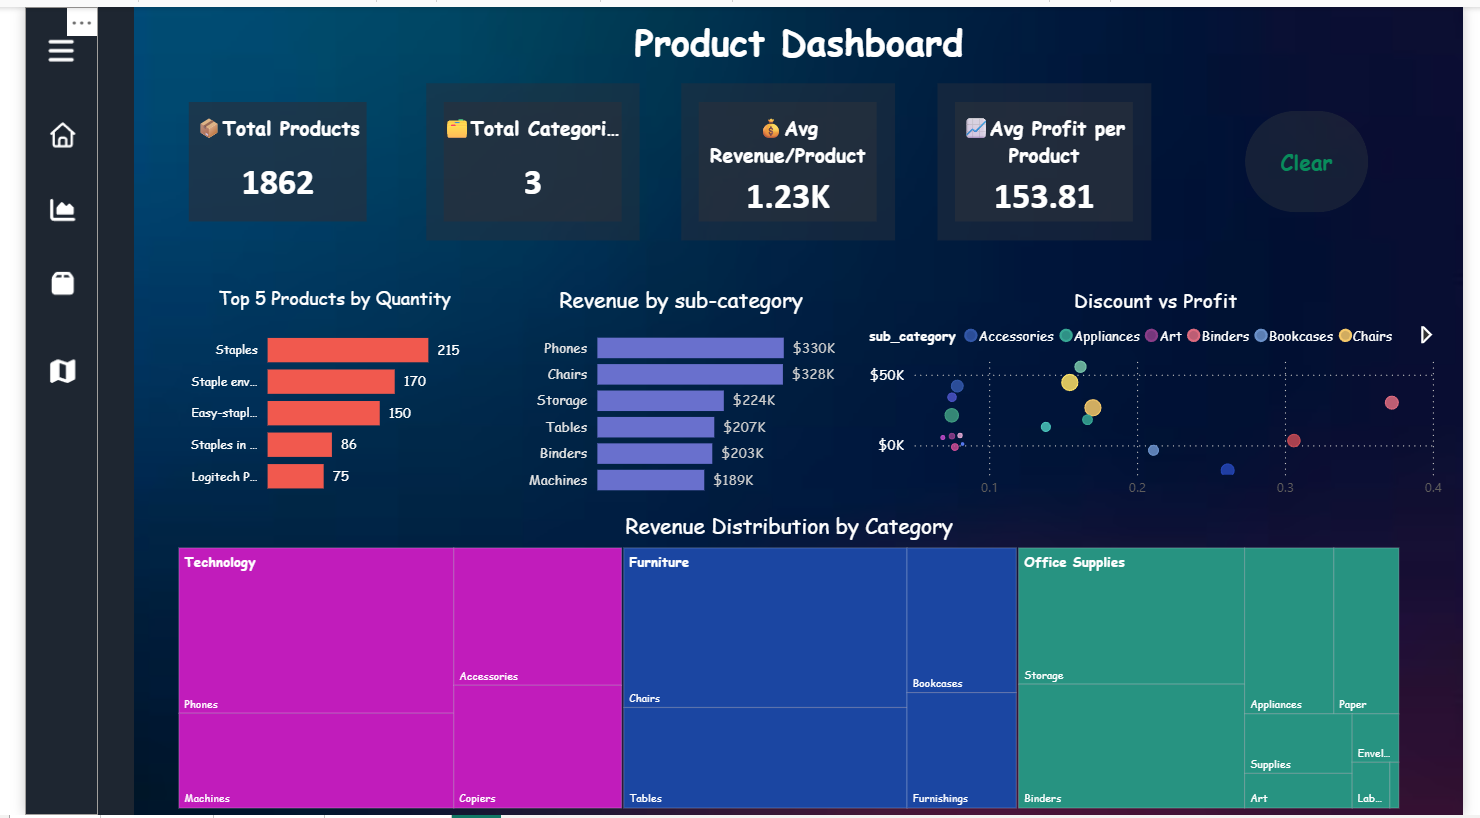

The page's visual inventory and layout, read from the dashboard file:
{"tool":"powerbi","page":{"name":"Products","canvas":[1280,720],"ordinal":2},"visuals":[{"type":"shape","box":[357,67.6,190,140],"z":1000},{"type":"actionButton","title":"title","box":[97.5,2.5,1182.5,57.5],"z":2000},{"type":"actionButton","title":"menu bar","box":[12.5,18.8,40,40],"z":2000,"group":"g1"},{"type":"card","title":"📦Total Products","fields":{"Values":["measure.Total Products"]},"box":[146,84.1,158.7,106.8],"z":3000},{"type":"shape","title":"left nav2","box":[65,0,32.5,720],"z":4000},{"type":"shape","title":"left nav1","box":[0,0,65,720],"z":5000},{"type":"actionButton","box":[16,104,128,40],"z":6000},{"type":"group","id":"g1","title":"Menu Bar","box":[12.5,18.8,40,40],"z":8000},{"type":"actionButton","title":"map","box":[16,304,40,40],"z":10000},{"type":"actionButton","title":"product","box":[16,226,40,40],"z":11000},{"type":"actionButton","title":"executive","box":[16,160,40,40],"z":12000},{"type":"actionButton","title":"home","box":[16,93,40,40],"z":13000},{"type":"shape","box":[584.4,67.6,190.4,139.9],"z":14000},{"type":"shape","box":[812.1,67.6,190.4,139.9],"z":15000},{"type":"card","title":"🗂️Total Categories","fields":{"Values":["measure.Total Categories"]},"box":[373.3,84.1,158.7,106.8],"z":16000},{"type":"card","title":"💰Avg Revenue/Product","fields":{"Values":["measure.Avg Revenue per product"]},"box":[599.9,84.1,158.7,106.8],"z":17000},{"type":"card","title":"📈Avg Profit per Product","fields":{"Values":["measure.Avg Profit per Product"]},"box":[827.8,84.1,158.7,106.8],"z":18000},{"type":"clusteredBarChart","title":"Revenue by sub-category","fields":{"Category":["dim_product.sub_category"],"Y":["measure.Total Revenue"]},"box":[441.6,242.5,284.7,202.7],"z":19000},{"type":"treemap","title":"Revenue Distribution by Category","fields":{"Details":["dim_product.sub_category"],"Group":["dim_product.category"],"Values":["measure.Total Revenue"]},"box":[130.3,445.3,1100.5,275.1],"z":20000},{"type":"clusteredBarChart","title":"Top 5 Products by Quantity","fields":{"Category":["dim_product.product_name"],"Y":["Sum(fact_sales.quantity)"]},"box":[130.3,242.5,290.8,202.7],"z":21000},{"type":"actionButton","title":"Prod reset","box":[1087,92.9,109.8,90.5],"z":22000},{"type":"scatterChart","title":"Discount vs Profit","fields":{"Series":["dim_product.sub_category"],"Size":["measure.Total Revenue"],"X":["measure.Average Discount"],"Y":["measure.Total Profit"]},"box":[746.8,242.5,520,202.7],"z":23000}]}

Visuals, with their boxes on the page's 1280x720 design canvas (x1, y1, x2, y2). These are canvas units, not pixel positions in the 1480x818 screenshot, which may show the page scaled, cropped or inside an application window:
shape: crop(357, 68, 547, 208)
"title" actionButton: crop(98, 2, 1280, 60)
"menu bar" actionButton: crop(12, 19, 52, 59)
"📦Total Products" card: crop(146, 84, 305, 191)
"left nav2" shape: crop(65, 0, 98, 720)
"left nav1" shape: crop(0, 0, 65, 720)
actionButton: crop(16, 104, 144, 144)
"Menu Bar" group: crop(12, 19, 52, 59)
"map" actionButton: crop(16, 304, 56, 344)
"product" actionButton: crop(16, 226, 56, 266)
"executive" actionButton: crop(16, 160, 56, 200)
"home" actionButton: crop(16, 93, 56, 133)
shape: crop(584, 68, 775, 208)
shape: crop(812, 68, 1002, 208)
"🗂️Total Categories" card: crop(373, 84, 532, 191)
"💰Avg Revenue/Product" card: crop(600, 84, 759, 191)
"📈Avg Profit per Product" card: crop(828, 84, 986, 191)
"Revenue by sub-category" clusteredBarChart: crop(442, 242, 726, 445)
"Revenue Distribution by Category" treemap: crop(130, 445, 1231, 720)
"Top 5 Products by Quantity" clusteredBarChart: crop(130, 242, 421, 445)
"Prod reset" actionButton: crop(1087, 93, 1197, 183)
"Discount vs Profit" scatterChart: crop(747, 242, 1267, 445)
